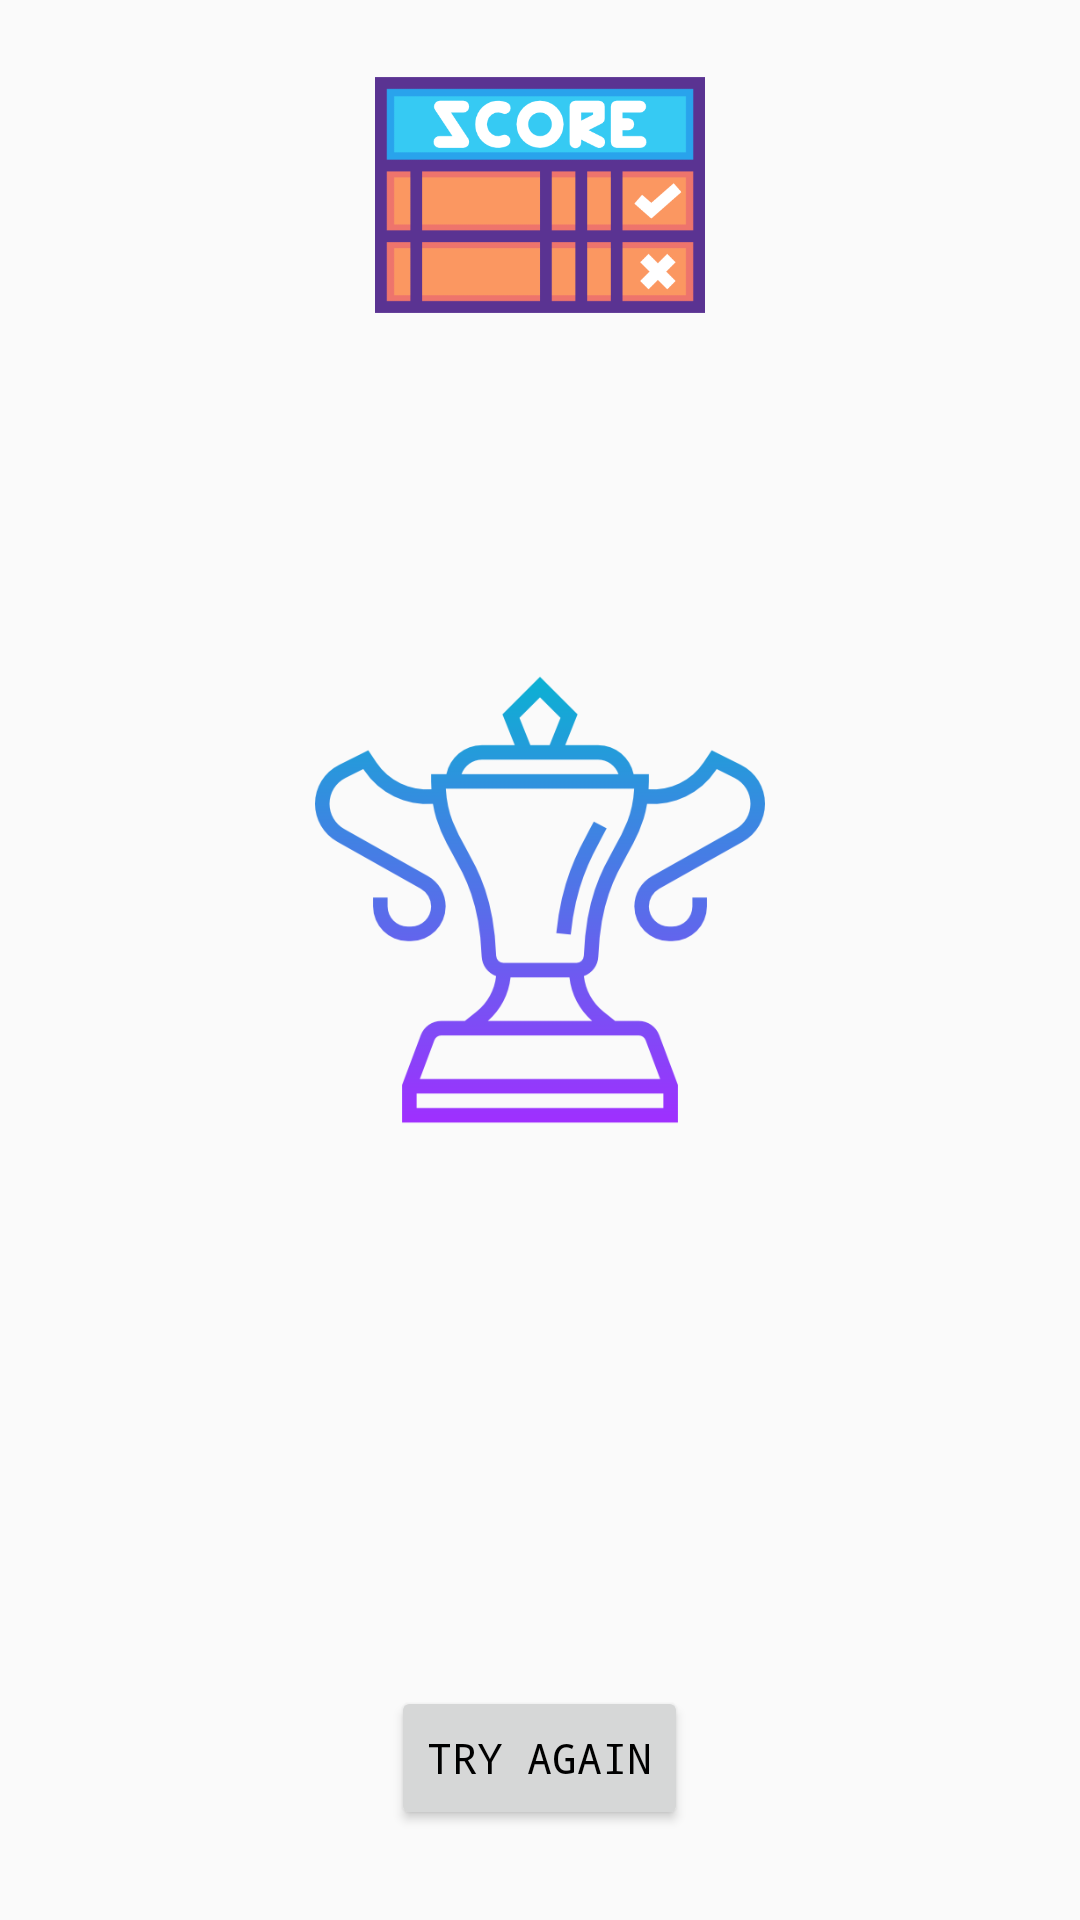

Screen size 1080×1920. Icon name, then its box in pixels as {"x1": x1, "y1": y1, "x2": x2, "y2": y2}:
picture of a score board: {"x1": 375, "y1": 77, "x2": 705, "y2": 313}
